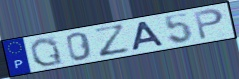0: (66, 31, 93, 63)
5: (161, 11, 196, 45)
A: (131, 20, 167, 52)
P: (192, 7, 226, 41)
Q: (28, 37, 65, 68)
Z: (91, 23, 132, 59)
